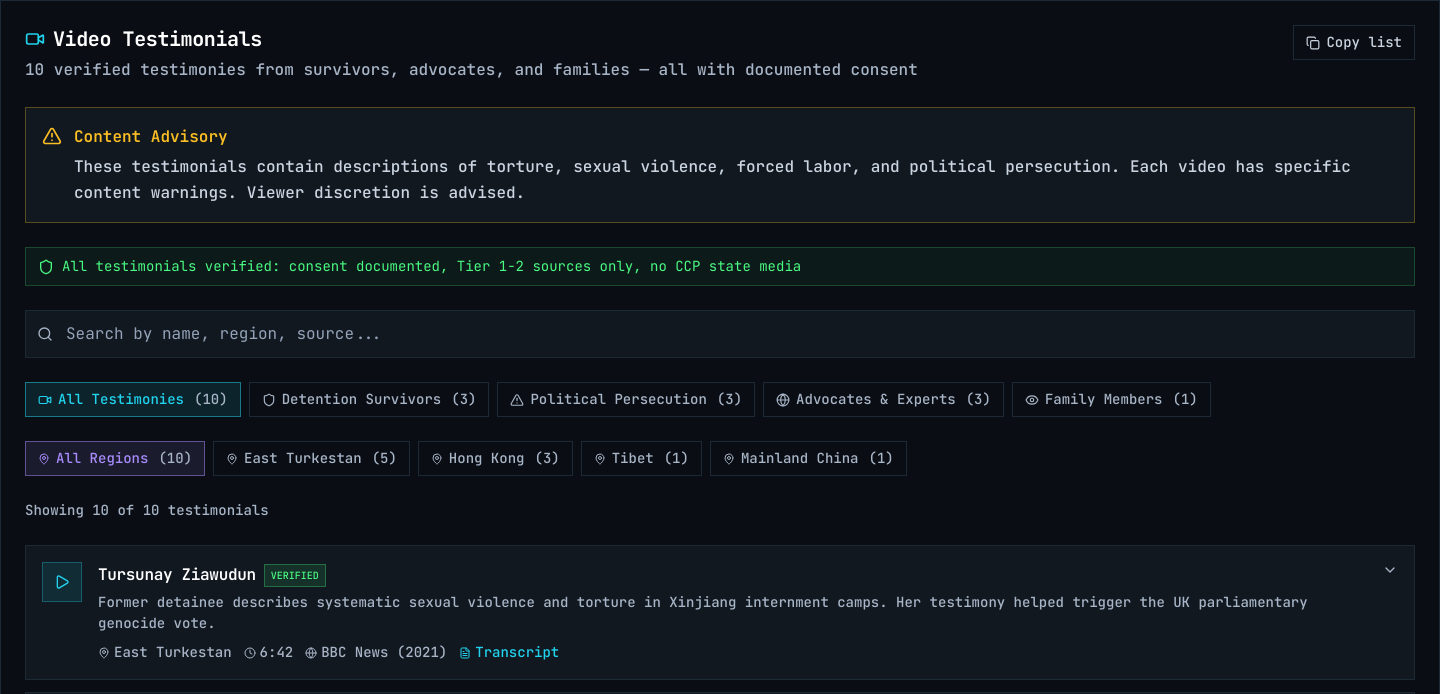
Scenario: VideoTestimonials › clicking a card expands it
Click the button with aria-label "Tursunay Ziawudun — BBC News, 2021": [720, 612] box [26, 546, 1414, 679]
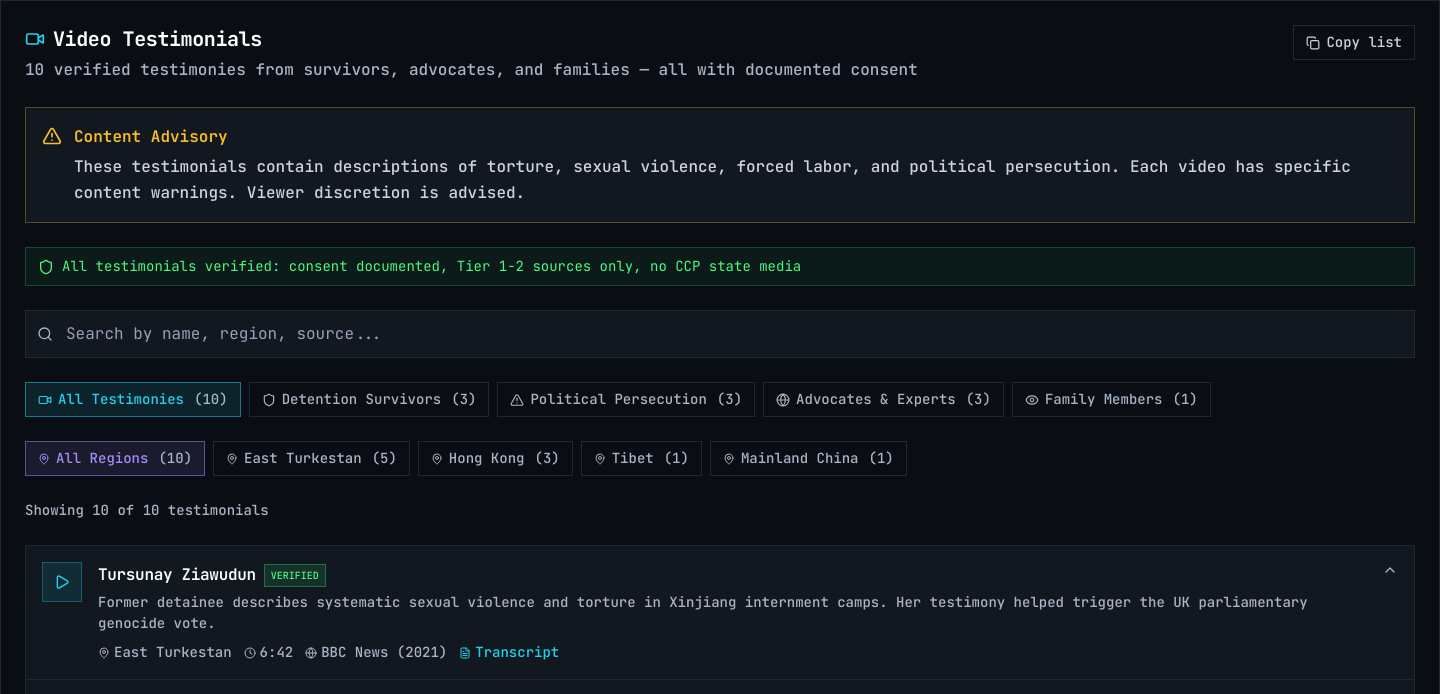
Result: the button with aria-label "Tursunay Ziawudun — BBC News, 2021" is expanded at [26, 546, 1414, 679]
